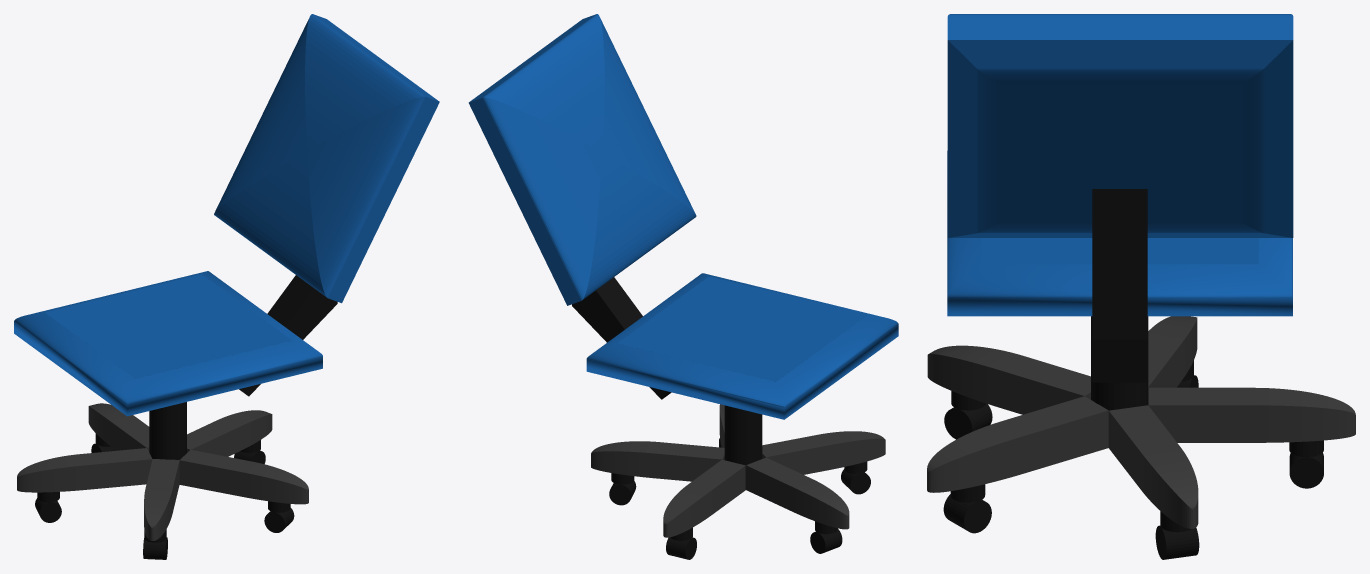
Rendered from class_chair.fbx.
The picture shows the model from 3 angles, left to right: view 1: azimuth 30°, elevation 25°; view 2: azimuth 150°, elevation 25°; view 3: azimuth 270°, elevation 25°; orthographic projection. The views are drawn at different scales.
Visible parts, largest first — view 1: 立方体.001, 立方体, 立方体.004, 立方体.006, 立方体.003, 立方体.007, 立方体.005, 立方体.002, 柱体; view 2: 立方体.001, 立方体, 立方体.003, 立方体.004, 立方体.005, 立方体.002, 立方体.007, 柱体, 柱体.006, 柱体.002; view 3: 立方体.001, 立方体, 立方体.007, 立方体.002, 立方体.006, 立方体.005, 立方体.003, 立方体.004, 柱体, 柱体.010, 柱体.004, 柱体.008 (+1 smaller).
Part boxes in pixels (bbox=[...]): 立方体.001: bbox=[214, 14, 439, 303]; 立方体: bbox=[14, 271, 322, 416]; 立方体.004: bbox=[17, 448, 152, 492]; 立方体.006: bbox=[179, 450, 308, 504]; 立方体.003: bbox=[187, 410, 272, 456]; 立方体.007: bbox=[239, 275, 337, 396]; 立方体.005: bbox=[144, 459, 179, 540]; 立方体.002: bbox=[88, 403, 149, 451]; 柱体: bbox=[149, 402, 186, 459]; 立方体.001: bbox=[468, 14, 696, 305]; 立方体: bbox=[586, 273, 898, 419]; 立方体.003: bbox=[591, 441, 724, 481]; 立方体.004: bbox=[746, 457, 849, 529]; 立方体.005: bbox=[762, 431, 885, 474]; 立方体.002: bbox=[663, 459, 745, 537]; 立方体.007: bbox=[572, 277, 671, 399]; 柱体: bbox=[724, 405, 762, 489]; 柱体.006: bbox=[810, 528, 842, 553]; 柱体.002: bbox=[666, 537, 696, 559]; 立方体.001: bbox=[947, 14, 1293, 237]; 立方体: bbox=[947, 151, 1292, 316]; 立方体.007: bbox=[1092, 189, 1147, 382]; 立方体.002: bbox=[1148, 387, 1355, 442]; 立方体.006: bbox=[927, 396, 1108, 492]; 立方体.005: bbox=[927, 345, 1090, 414]; 立方体.003: bbox=[1108, 405, 1198, 528]; 立方体.004: bbox=[1148, 316, 1197, 405]; 柱体: bbox=[1091, 316, 1148, 410]; 柱体.010: bbox=[943, 494, 991, 533]; 柱体.004: bbox=[1155, 525, 1199, 559]; 柱体.008: bbox=[944, 403, 992, 439].
Bounding box in the file's own units: 1751 × 1965 × 1241.
